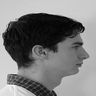ear: (27, 40, 53, 64)
